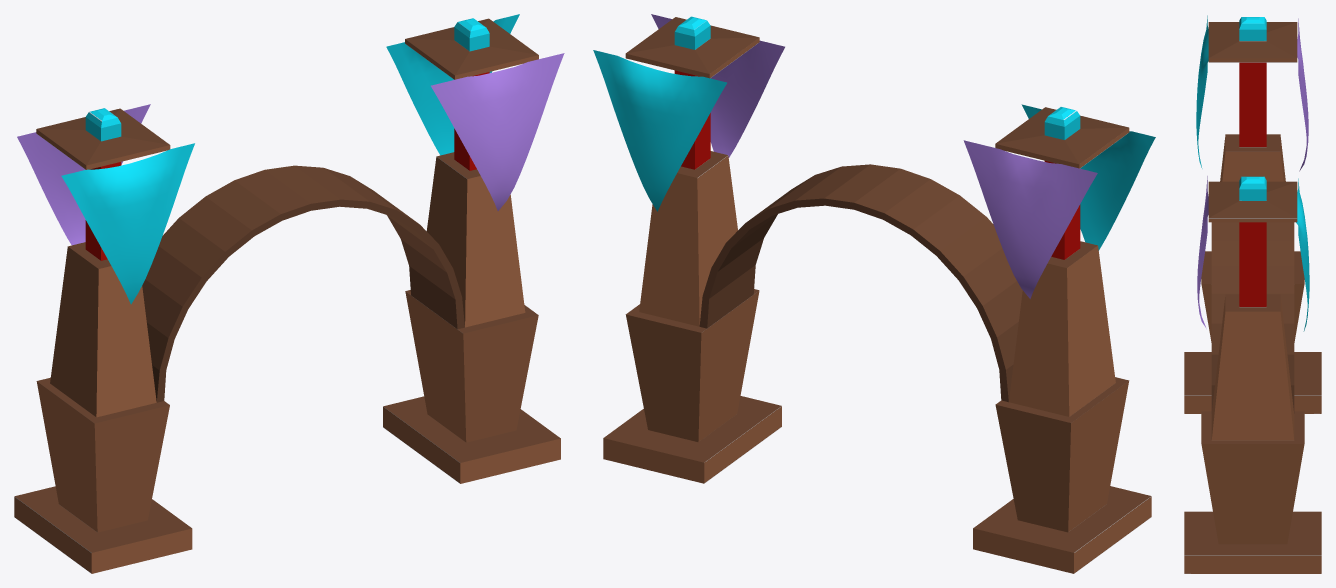
File: mer-gates.glb
3 renders of one model, left to right at view 1: azimuth 30°, elevation 25°; view 2: azimuth 150°, elevation 25°; view 3: azimuth 270°, elevation 25°, orthographic. The views are drawn at different scales.
Parts seen in each view (by area): view 1: mer-gate, flag.001, flag.002, flag.003, flag.004; view 2: mer-gate, flag.004, flag.003, flag.002, flag.001; view 3: mer-gate, flag.003, flag.002, flag.004, flag.001.
Boxes of the visible parts, x1,y1,x2,y2 form: mer-gate: (14,18,560,573); flag.001: (431,53,564,210); flag.002: (61,143,194,304); flag.003: (386,14,519,155); flag.004: (17,104,150,245); mer-gate: (603,16,1151,573); flag.004: (963,140,1097,298); flag.003: (593,50,726,211); flag.002: (1021,104,1155,250); flag.001: (651,14,784,157); mer-gate: (1184,17,1321,573); flag.003: (1296,178,1309,331); flag.002: (1196,15,1208,168); flag.004: (1297,18,1308,171); flag.001: (1197,176,1208,328).
Size of the model in its own units: 15.22 by 12 by 4.
5 materials, 1 textured.
